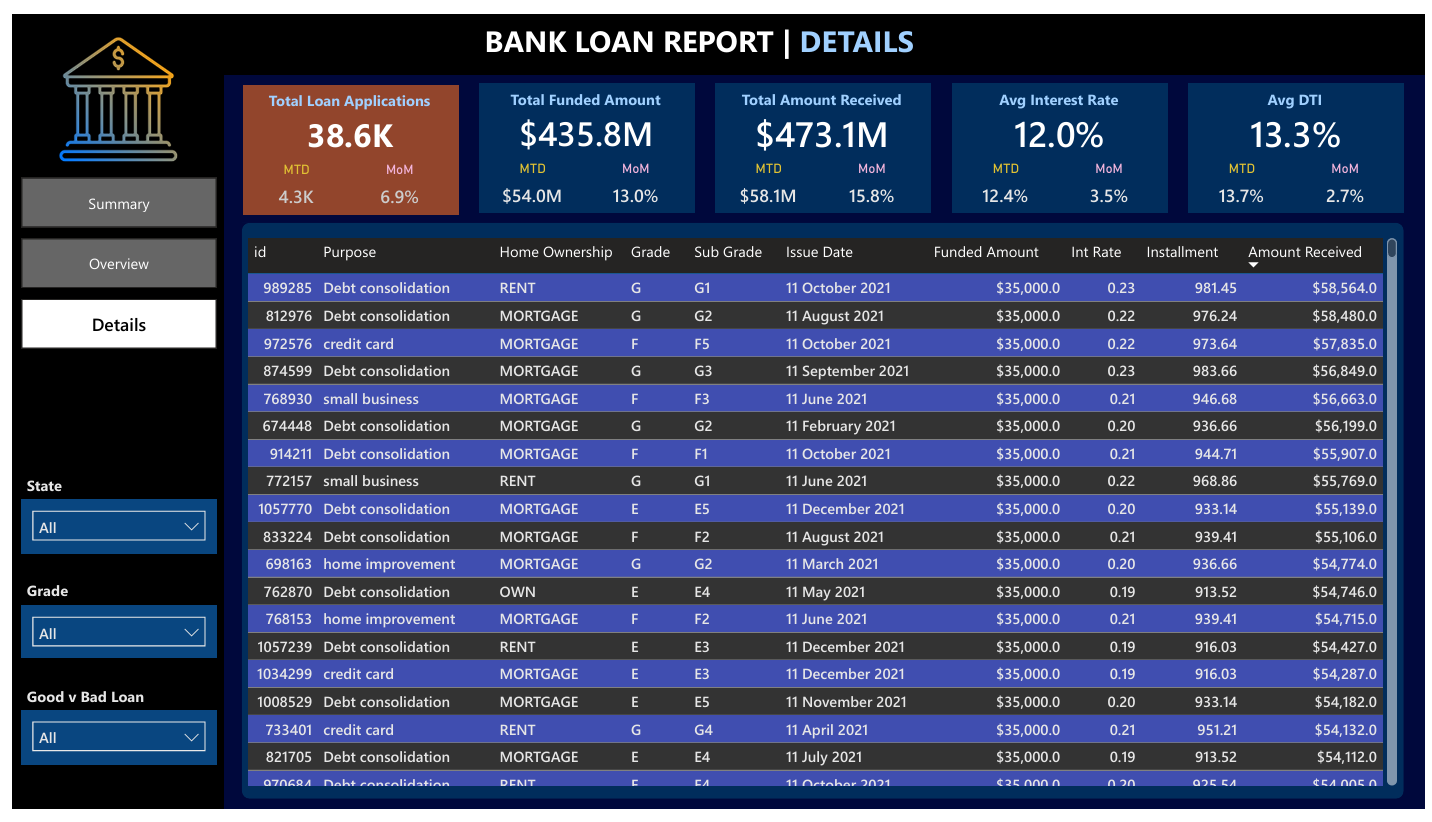

Layout of this report page (visuals, bound fields, positions):
{"tool":"powerbi","page":{"name":"Details","canvas":[1280,720],"ordinal":2},"visuals":[{"type":"shape","box":[207.5,188.8,1053.8,522.5],"z":0},{"type":"shape","box":[0,0,1280.3,55],"z":1000},{"type":"shape","box":[0,55,192,665.5],"z":2000},{"type":"textbox","box":[422.5,0,453.8,47.5],"z":3000},{"type":"shape","box":[422.7,62.5,195,117],"z":3000,"group":"g2"},{"type":"shape","box":[637,62.5,195,117],"z":3000,"group":"g3"},{"type":"shape","box":[851.4,62.5,195,117],"z":3000,"group":"g4"},{"type":"shape","box":[1065.8,62.5,195,117],"z":3000,"group":"g5"},{"type":"shape","box":[208.3,63.8,195,117],"z":3000,"group":"g1"},{"type":"group","id":"g1","title":"Group 1","box":[207.5,63.8,196.2,116.2],"z":4000},{"type":"cardVisual","fields":{"Data":["financial_loan.Total Funded Amount"]},"box":[421.9,76.9,196.7,56.7],"z":4000,"group":"g2"},{"type":"cardVisual","fields":{"Data":["financial_loan.Total Amount Received"]},"box":[636.2,76.9,196.7,56.7],"z":4000,"group":"g3"},{"type":"cardVisual","fields":{"Data":["financial_loan.Avg Interest Rate"]},"box":[850.6,76.9,196.7,56.7],"z":4000,"group":"g4"},{"type":"cardVisual","fields":{"Data":["financial_loan.Avg DTI"]},"box":[1065,76.9,196.7,56.7],"z":4000,"group":"g5"},{"type":"cardVisual","fields":{"Data":["financial_loan.Total Loan Applications"]},"box":[207.5,78.2,196.7,56.7],"z":4000,"group":"g1"},{"type":"group","id":"g2","title":"Group 1","box":[421.9,62.5,196.2,116.2],"z":5000},{"type":"textbox","box":[422.4,62.5,194.5,30],"z":5000,"group":"g2"},{"type":"textbox","box":[636.7,62.5,194.5,30],"z":5000,"group":"g3"},{"type":"textbox","box":[851.1,62.5,194.5,30],"z":5000,"group":"g4"},{"type":"textbox","box":[1065.5,62.5,194.5,30],"z":5000,"group":"g5"},{"type":"textbox","box":[208,63.8,194.5,30],"z":5000,"group":"g1"},{"type":"group","id":"g3","title":"Group 1","box":[636.2,62.5,196.2,116.2],"z":6000},{"type":"cardVisual","title":"MTD","fields":{"Data":["financial_loan.MTD Funded Amount"]},"box":[423.1,132.8,96.2,45],"z":6000,"group":"g2"},{"type":"cardVisual","title":"MTD","fields":{"Data":["financial_loan.MTD Total Amount Received"]},"box":[637.4,132.8,96.2,45],"z":6000,"group":"g3"},{"type":"cardVisual","title":"MTD","fields":{"Data":["financial_loan.MTD Avg Int Rate"]},"box":[851.8,132.8,96.2,45],"z":6000,"group":"g4"},{"type":"cardVisual","title":"MTD","fields":{"Data":["financial_loan.MTD Avg DTI"]},"box":[1066.2,132.8,96.2,45],"z":6000,"group":"g5"},{"type":"cardVisual","title":"MTD","fields":{"Data":["financial_loan.MTD Loan Applications"]},"box":[208.7,134.1,96.2,45],"z":6000,"group":"g1"},{"type":"group","id":"g4","title":"Group 1","box":[850.6,62.5,196.2,116.2],"z":7000},{"type":"cardVisual","title":"MoM","fields":{"Data":["financial_loan.MoM Total Funded Amount"]},"box":[521.9,132.8,86.2,45],"z":7000,"group":"g2"},{"type":"cardVisual","title":"MoM","fields":{"Data":["financial_loan.MoM Total Amount Received"]},"box":[736.2,132.8,86.2,45],"z":7000,"group":"g3"},{"type":"cardVisual","title":"MoM","fields":{"Data":["financial_loan.MoM Avg Int Rate"]},"box":[950.6,132.8,86.2,45],"z":7000,"group":"g4"},{"type":"cardVisual","title":"MoM","fields":{"Data":["financial_loan.MoM Avg DTI"]},"box":[1165,132.8,86.2,45],"z":7000,"group":"g5"},{"type":"cardVisual","title":"MoM","fields":{"Data":["financial_loan.MoM Loan Applications"]},"box":[307.5,134.1,86.2,45],"z":7000,"group":"g1"},{"type":"group","id":"g5","title":"Group 1","box":[1065,62.5,196.2,116.2],"z":8000},{"type":"slicer","fields":{"Values":["financial_loan.address_state"]},"box":[7.5,440.1,177.5,48.8],"z":9000},{"type":"textbox","box":[7.5,412.5,73.8,27.5],"z":10000},{"type":"textbox","box":[7.5,507.5,73.8,27.5],"z":11000},{"type":"slicer","fields":{"Values":["financial_loan.grade"]},"box":[7.5,535.5,177.5,48.8],"z":12000},{"type":"slicer","fields":{"Values":["financial_loan.Good v Bad Loan"]},"box":[7.5,631,177.5,48.8],"z":13000},{"type":"textbox","box":[7.5,603.8,168.8,27.5],"z":14000},{"type":"tableEx","fields":{"Values":["financial_loan.id","financial_loan.purpose","financial_loan.home_ownership","financial_loan.grade","financial_loan.sub_grade","financial_loan.issue_date","financial_loan.Total Funded Amount","Sum(financial_loan.int_rate)","Sum(financial_loan.installment)","financial_loan.Total Amount Received"]},"box":[207.5,197.5,1052.5,506.2],"z":17000},{"type":"pageNavigator","box":[7.5,147.5,177.5,156.2],"z":18000},{"type":"image","box":[21.2,18.8,150,116.2],"z":19000}]}

Visuals, with their boxes in screenshot pixels (x1, y1, x2, y2), scaled from the page's 1280x720 canvas onto the 1432x822 screenshot:
shape: Rect(232, 216, 1411, 812)
shape: Rect(0, 0, 1431, 63)
shape: Rect(0, 63, 215, 821)
textbox: Rect(473, 0, 980, 54)
shape: Rect(473, 71, 691, 205)
shape: Rect(713, 71, 931, 205)
shape: Rect(953, 71, 1171, 205)
shape: Rect(1192, 71, 1411, 205)
shape: Rect(233, 73, 451, 206)
"Group 1" group: Rect(232, 73, 452, 206)
cardVisual - financial_loan.Total Funded Amount: Rect(472, 88, 692, 153)
cardVisual - financial_loan.Total Amount Received: Rect(712, 88, 932, 153)
cardVisual - financial_loan.Avg Interest Rate: Rect(952, 88, 1172, 153)
cardVisual - financial_loan.Avg DTI: Rect(1191, 88, 1412, 153)
cardVisual - financial_loan.Total Loan Applications: Rect(232, 89, 452, 154)
"Group 1" group: Rect(472, 71, 691, 204)
textbox: Rect(473, 71, 690, 106)
textbox: Rect(712, 71, 930, 106)
textbox: Rect(952, 71, 1170, 106)
textbox: Rect(1192, 71, 1410, 106)
textbox: Rect(233, 73, 450, 107)
"Group 1" group: Rect(712, 71, 931, 204)
"MTD" cardVisual: Rect(473, 152, 581, 203)
"MTD" cardVisual: Rect(713, 152, 821, 203)
"MTD" cardVisual: Rect(953, 152, 1061, 203)
"MTD" cardVisual: Rect(1193, 152, 1300, 203)
"MTD" cardVisual: Rect(233, 153, 341, 204)
"Group 1" group: Rect(952, 71, 1171, 204)
"MoM" cardVisual: Rect(584, 152, 680, 203)
"MoM" cardVisual: Rect(824, 152, 920, 203)
"MoM" cardVisual: Rect(1063, 152, 1160, 203)
"MoM" cardVisual: Rect(1303, 152, 1400, 203)
"MoM" cardVisual: Rect(344, 153, 440, 204)
"Group 1" group: Rect(1191, 71, 1411, 204)
slicer - financial_loan.address_state: Rect(8, 502, 207, 558)
textbox: Rect(8, 471, 91, 502)
textbox: Rect(8, 579, 91, 611)
slicer - financial_loan.grade: Rect(8, 611, 207, 667)
slicer - financial_loan.Good v Bad Loan: Rect(8, 720, 207, 776)
textbox: Rect(8, 689, 197, 721)
tableEx - financial_loan.id x financial_loan.purpose: Rect(232, 225, 1410, 803)
pageNavigator: Rect(8, 168, 207, 347)
image: Rect(24, 21, 192, 154)
